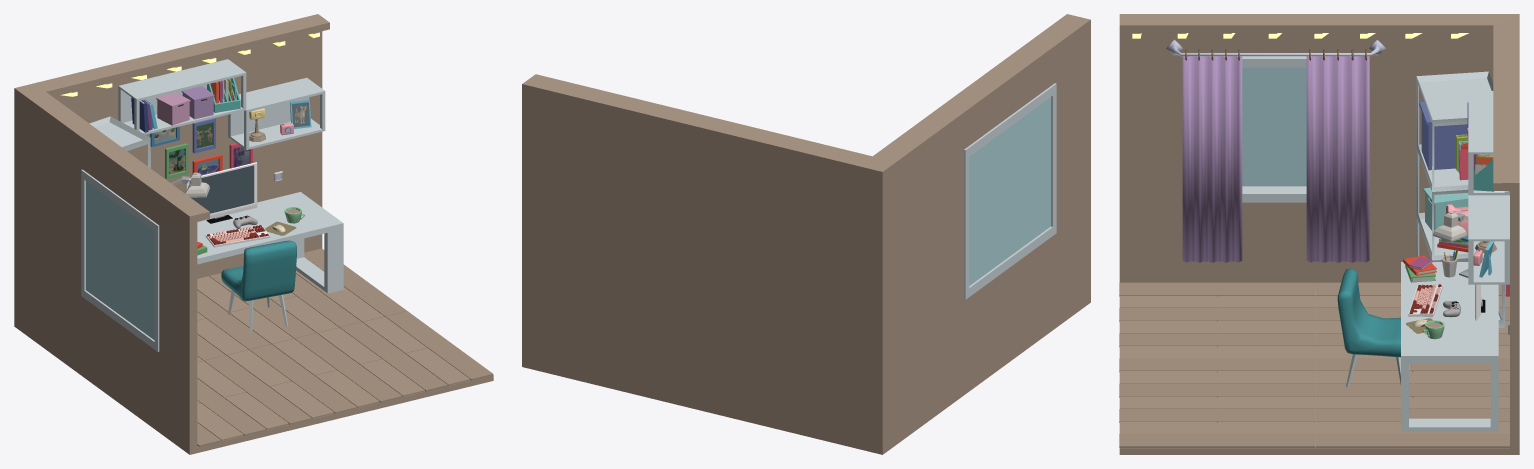
The model's file is room_full.glb.
3 renders of one model, left to right at view 1: azimuth 30°, elevation 25°; view 2: azimuth 150°, elevation 25°; view 3: azimuth 270°, elevation 25°, orthographic. The views are drawn at different scales.
Parts seen in each view (by area): view 1: room_shell, obj_computer, Case 1, obj_filepile, obj_lamp; view 2: room_shell; view 3: room_shell, Case 1, obj_filepile, obj_lamp, obj_notebook.
Boxes of the visible parts, box(x1,y1,x2,y2) form: room_shell: box(14, 14, 493, 454); obj_computer: box(185, 162, 257, 223); Case 1: box(205, 225, 270, 247); obj_filepile: box(207, 78, 240, 112); obj_lamp: box(171, 172, 209, 197); room_shell: box(522, 14, 1090, 454); room_shell: box(1119, 14, 1519, 454); Case 1: box(1408, 284, 1442, 317); obj_filepile: box(1473, 154, 1494, 191); obj_lamp: box(1433, 211, 1468, 277); obj_notebook: box(1403, 255, 1436, 282).
Bounding box in the file's own units: 8.25 × 6.15 × 8.21.
Materials: 58 (2 with a texture image).
